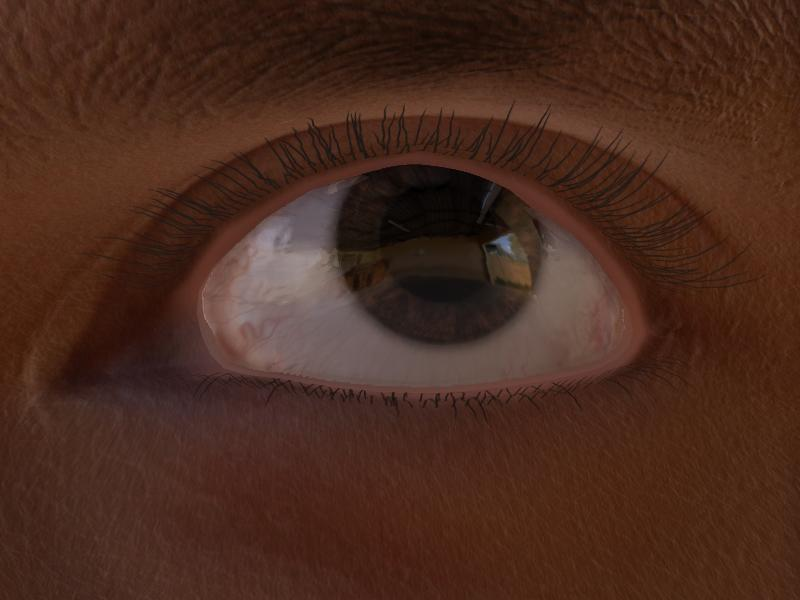eye: (333, 165, 545, 344)
